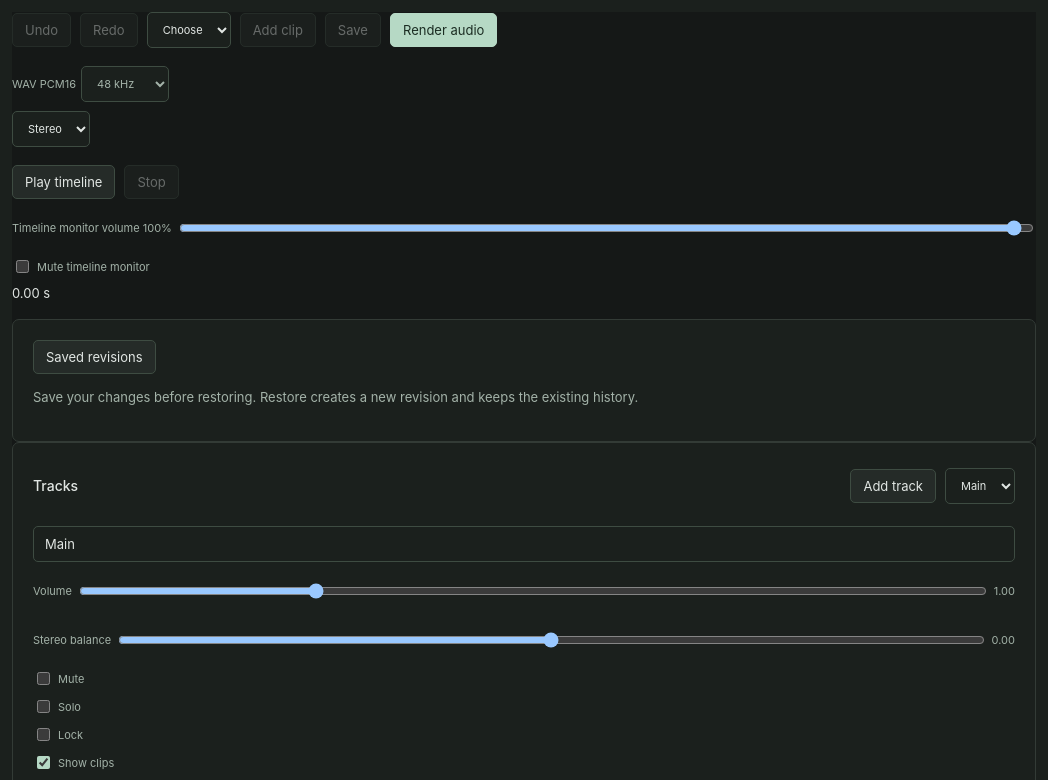
Test: restores a saved revision with the current revision guard and updates the editor
Click the button "Saved revisions" at (94, 357), box top-left (33, 340), bottom-right (156, 374)
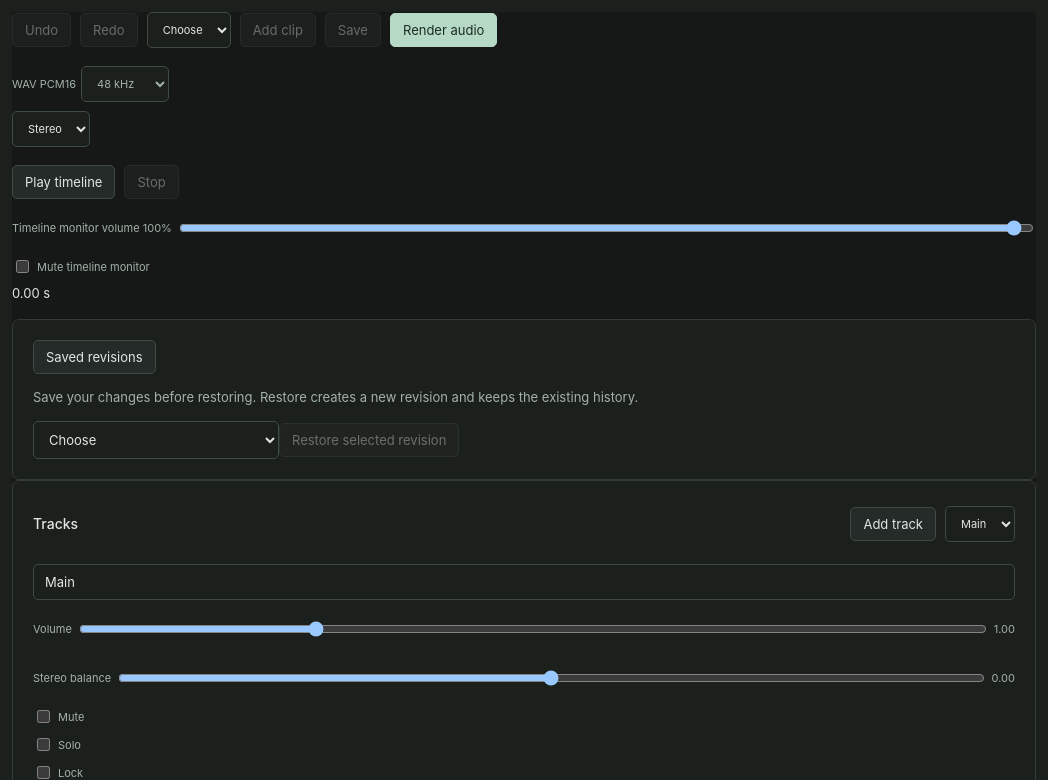
Select "2 · 10/1/2026, 10:00:00 AM · 1 KB" in the dropdown named "Saved revisions" at (156, 440), box top-left (33, 421), bottom-right (279, 459)
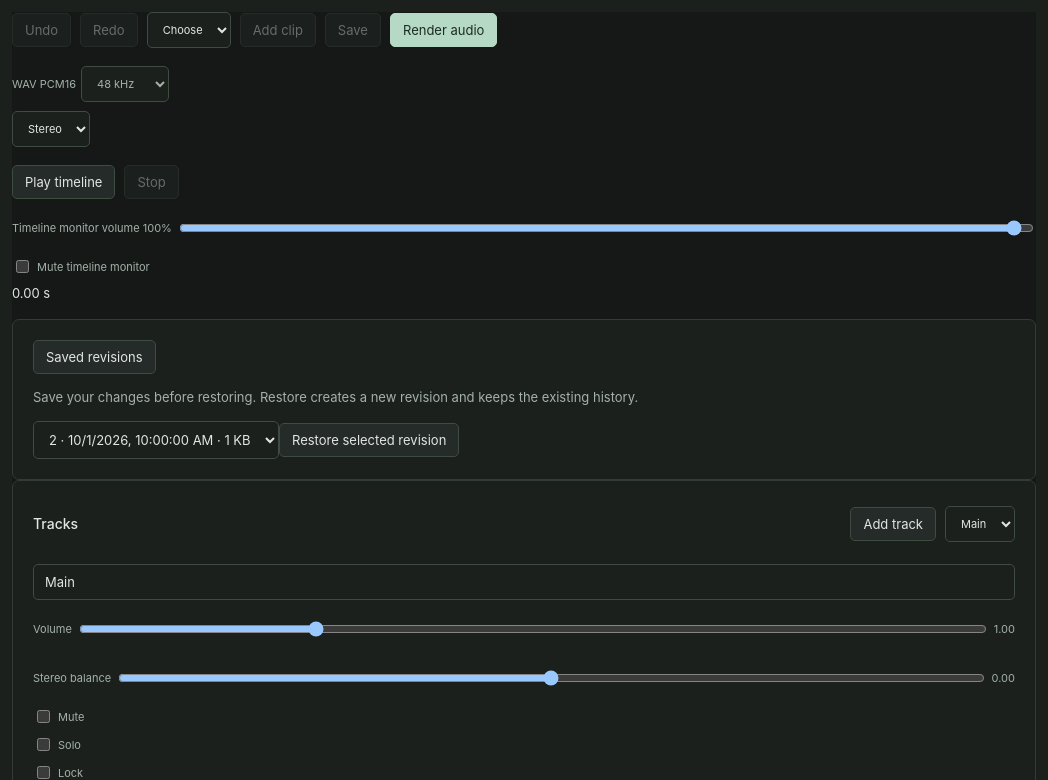
Click the button "Restore selected revision" at (369, 440), box top-left (279, 423), bottom-right (459, 457)
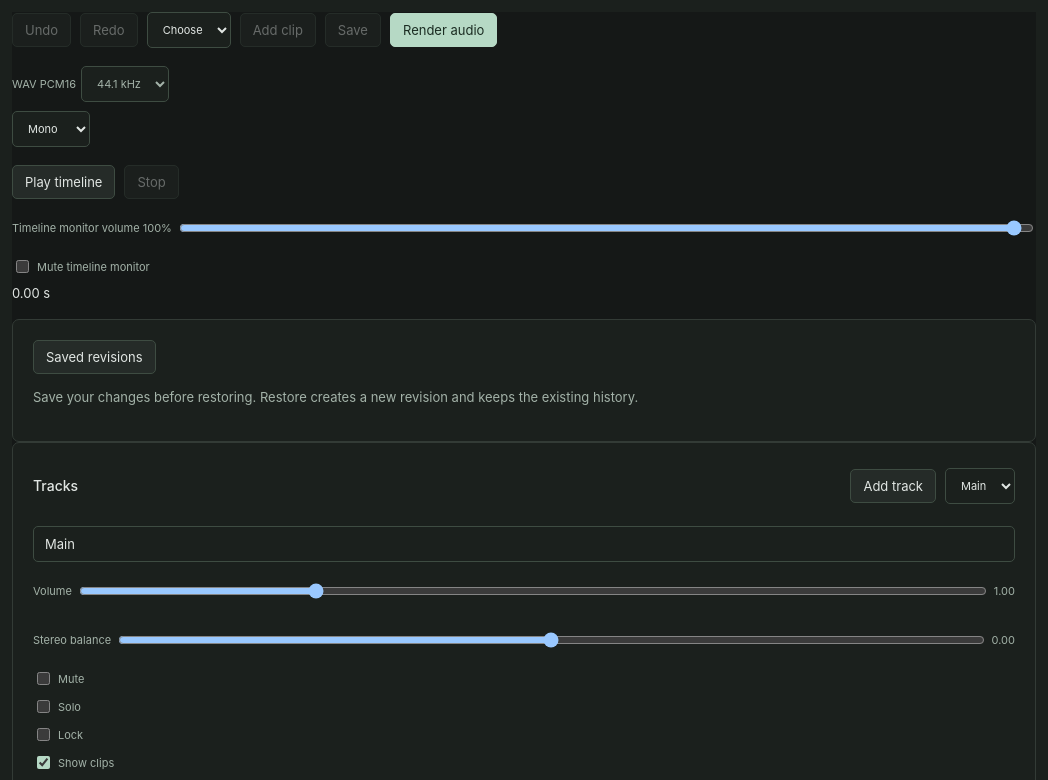
Check: the dropdown named "Sample rate" shows "44.1 kHz", box top-left (81, 66), bottom-right (169, 102)
